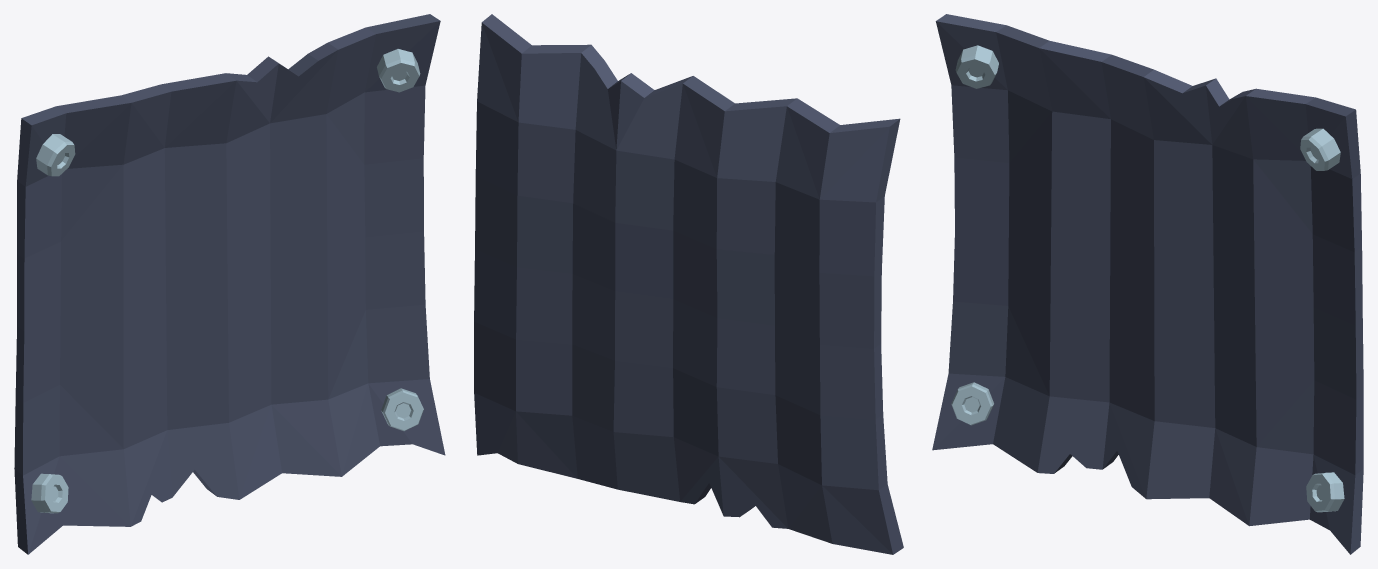
File: curvy_plate.fbx
The picture shows the model from 3 angles, left to right: view 1: azimuth 30°, elevation 25°; view 2: azimuth 150°, elevation 25°; view 3: azimuth 330°, elevation 25°; orthographic projection.
Visible parts, largest first — view 1: Cube; view 2: Cube; view 3: Cube.
Boxes of the visible parts, <box> form: Cube: <box>14,14,445,554</box>; Cube: <box>474,14,903,554</box>; Cube: <box>932,14,1363,554</box>.
Bounding box in the file's own units: 183 × 183 × 22.94.
